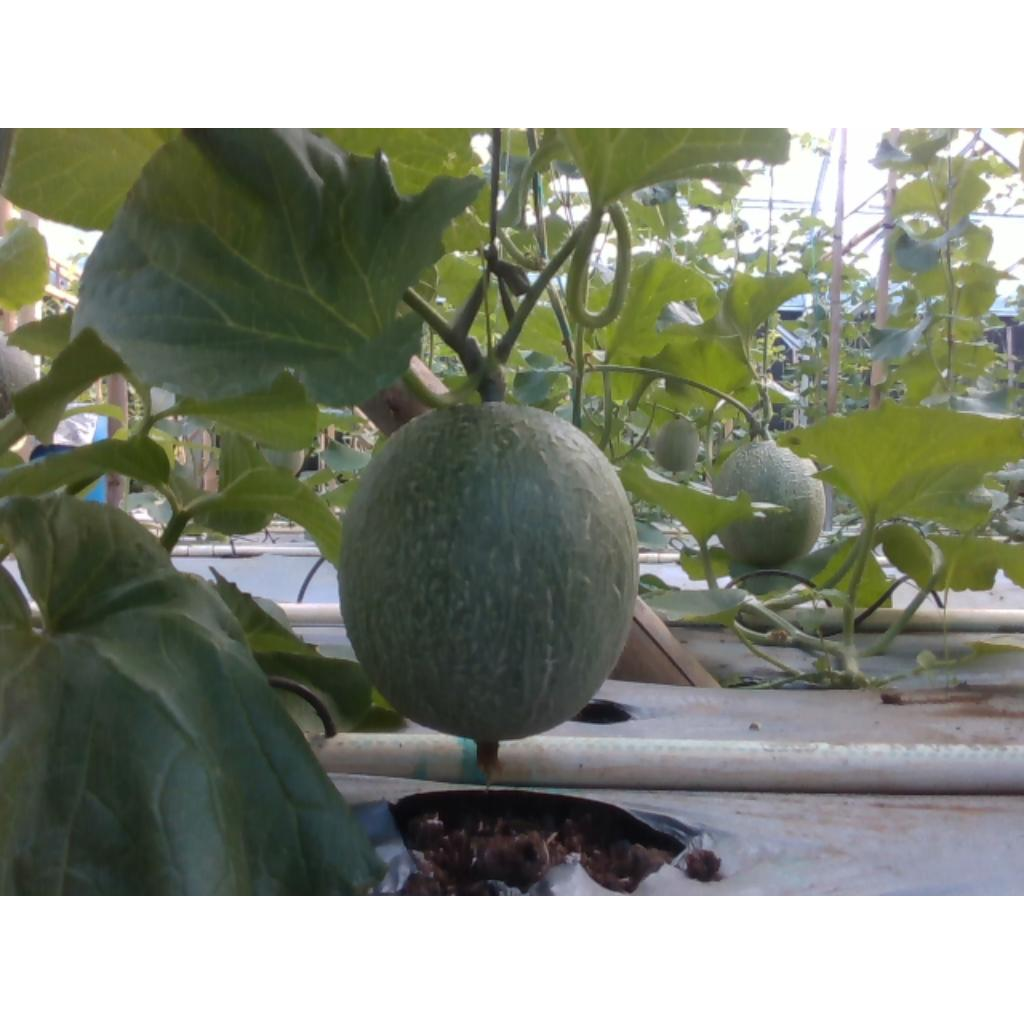melon: (339, 402, 638, 775)
